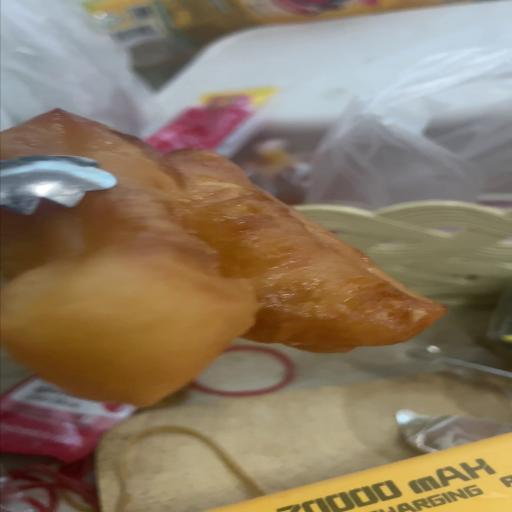street_burnt_defect: (0, 110, 442, 406)
street_burnt_good: (0, 110, 442, 407)
